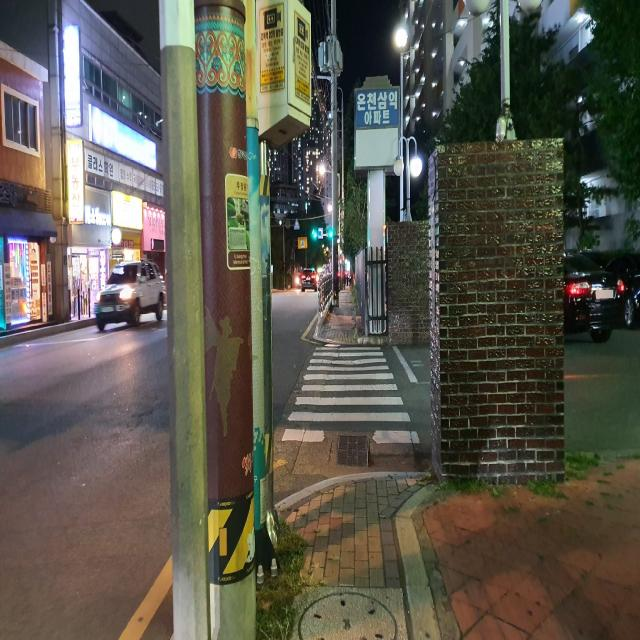횡단보도: (281, 346, 420, 445)
